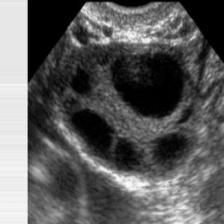pcos: (56, 25, 208, 189)
